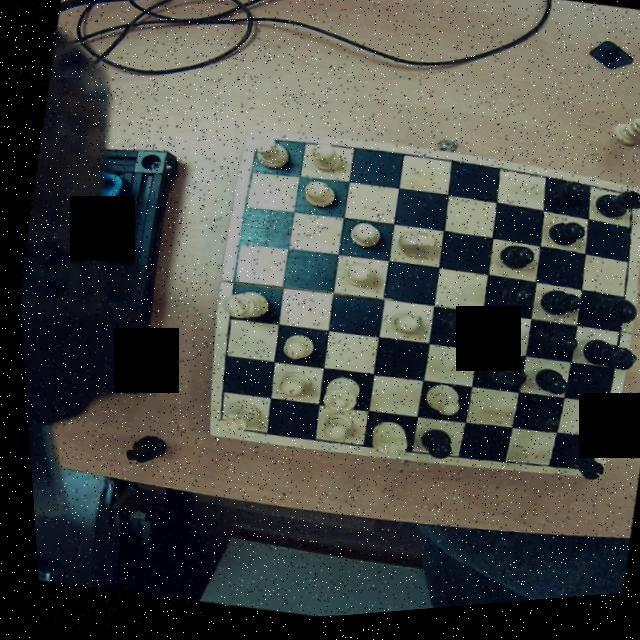chess-table-corners: (242, 132, 272, 160), (201, 412, 229, 440), (565, 466, 597, 488), (614, 196, 640, 221)
